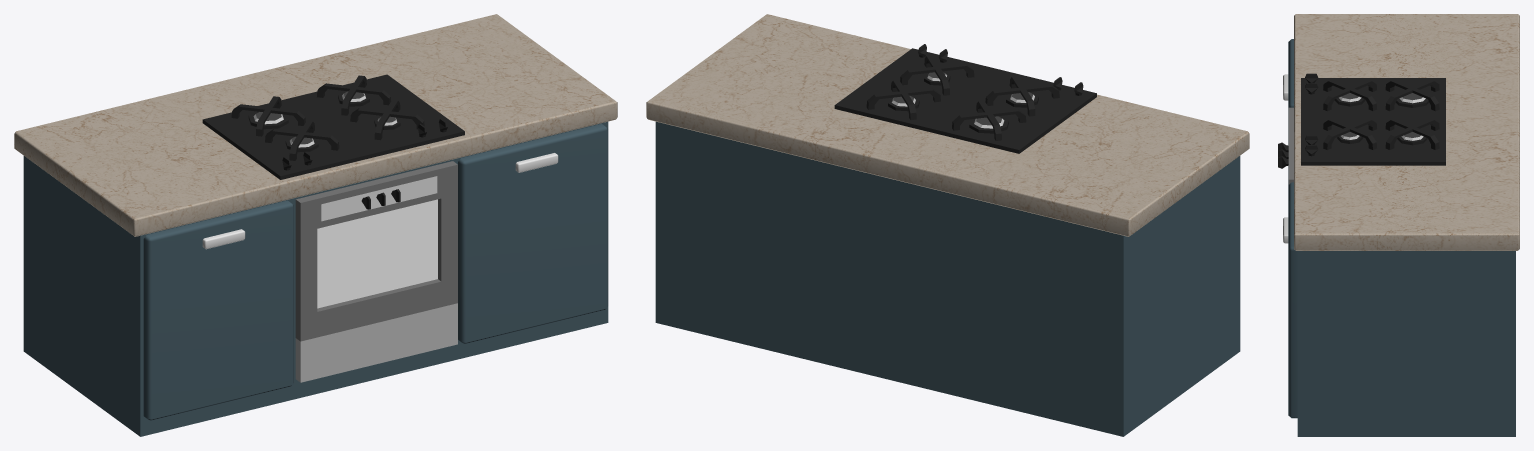
The model's file is kitchen_038.fbx.
The picture shows the model from 3 angles, left to right: view 1: azimuth 30°, elevation 25°; view 2: azimuth 150°, elevation 25°; view 3: azimuth 270°, elevation 25°; orthographic projection. The views are drawn at different scales.
Parts seen in each view (by area): view 1: kitchen_038; view 2: kitchen_038; view 3: kitchen_038.
Boxes of the visible parts, box(x1,y1,x2,y2) form: kitchen_038: box(14, 14, 617, 436); kitchen_038: box(646, 14, 1249, 436); kitchen_038: box(1278, 14, 1519, 436).
Bounding box in the file's own units: 239 × 111 × 112.
